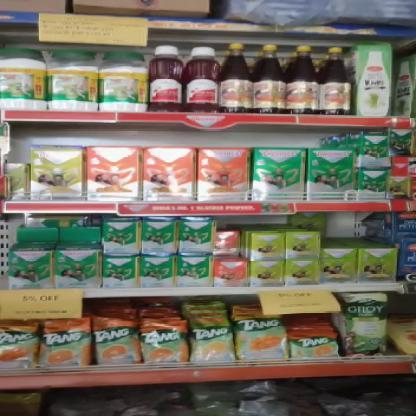Glucon D Nimbu Pani 1-KG: (25, 148, 84, 200)
Glucon D Regular 1-KG: (252, 148, 307, 200)
Glucon D Tangy orange 1-KG: (89, 146, 144, 198)
